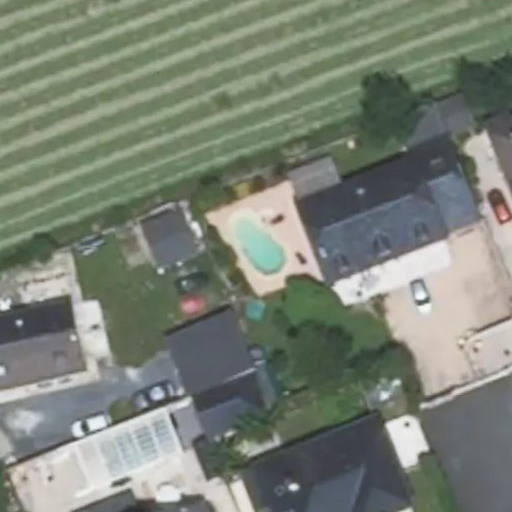pool: (214, 228, 293, 256)
